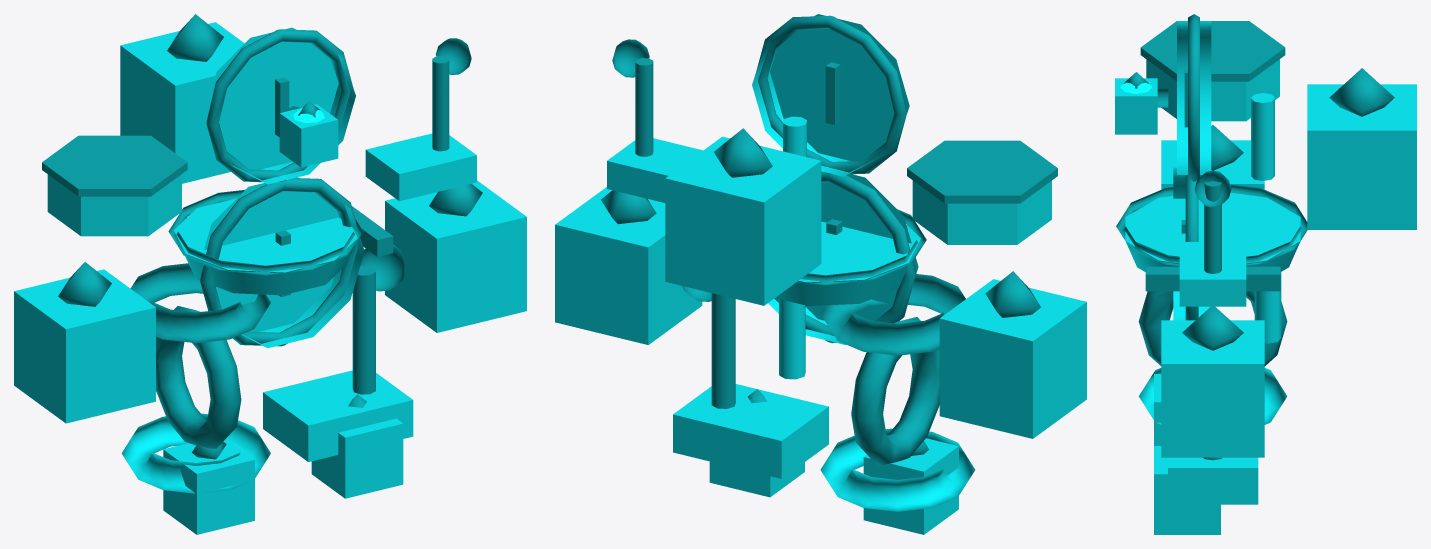
The model's file is golem_018.glb.
3 views of the same model, side by side, from view 1: azimuth 30°, elevation 25°; view 2: azimuth 150°, elevation 25°; view 3: azimuth 270°, elevation 25° (orthographic). The views are drawn at different scales.
Visible parts, largest first — view 1: Body, Detail; view 2: Body, Detail; view 3: Body, Detail.
Boxes of the visible parts, x1,y1,x2,y2 form: Body: (14, 22, 526, 534); Detail: (42, 14, 482, 459); Body: (555, 14, 1086, 534); Detail: (601, 15, 1057, 466); Body: (1115, 21, 1416, 534); Detail: (1116, 14, 1394, 460).
Size of the model in its own units: 1.3 by 1.26 by 0.744.
